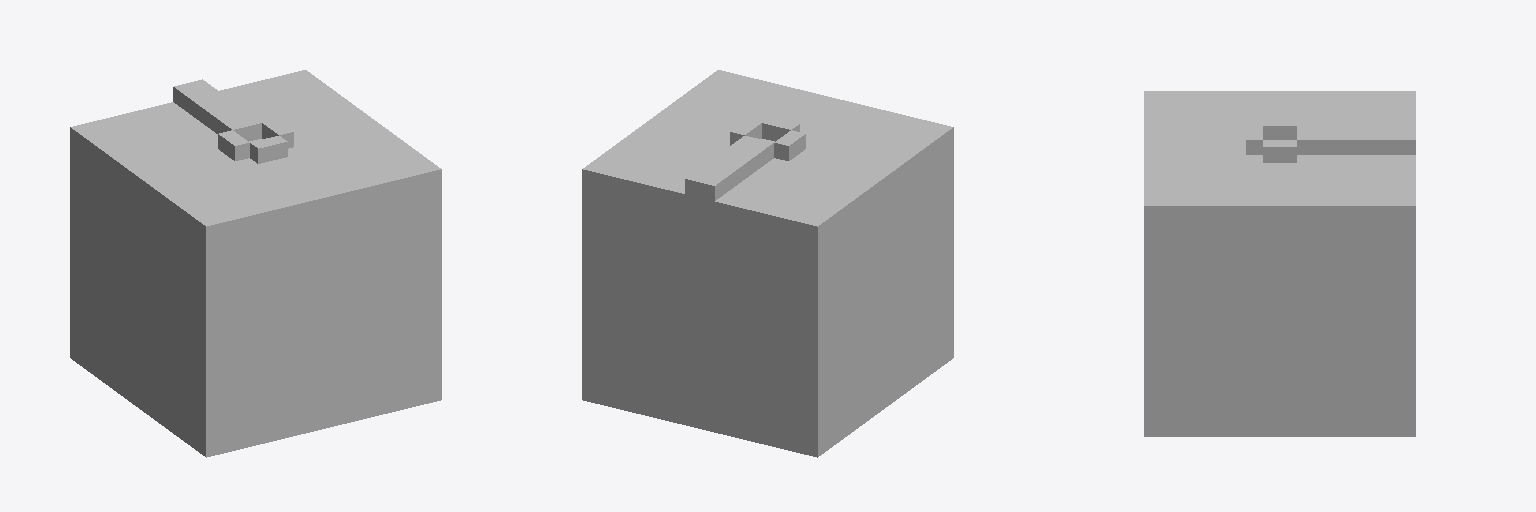
File: Floor Dead End.obj
The picture shows the model from 3 angles: view 1: azimuth 30°, elevation 25°; view 2: azimuth 150°, elevation 25°; view 3: azimuth 270°, elevation 25°; orthographic projection.
Parts seen in each view (by area): view 1: object 1; view 2: object 1; view 3: object 1.
Boxes of the visible parts, x1=… form: object 1: x1=70, y1=70, x2=441, y2=457; object 1: x1=582, y1=70, x2=953, y2=457; object 1: x1=1144, y1=91, x2=1415, y2=436.
Bounding box in the file's own units: 1.6 × 1.6 × 1.6.